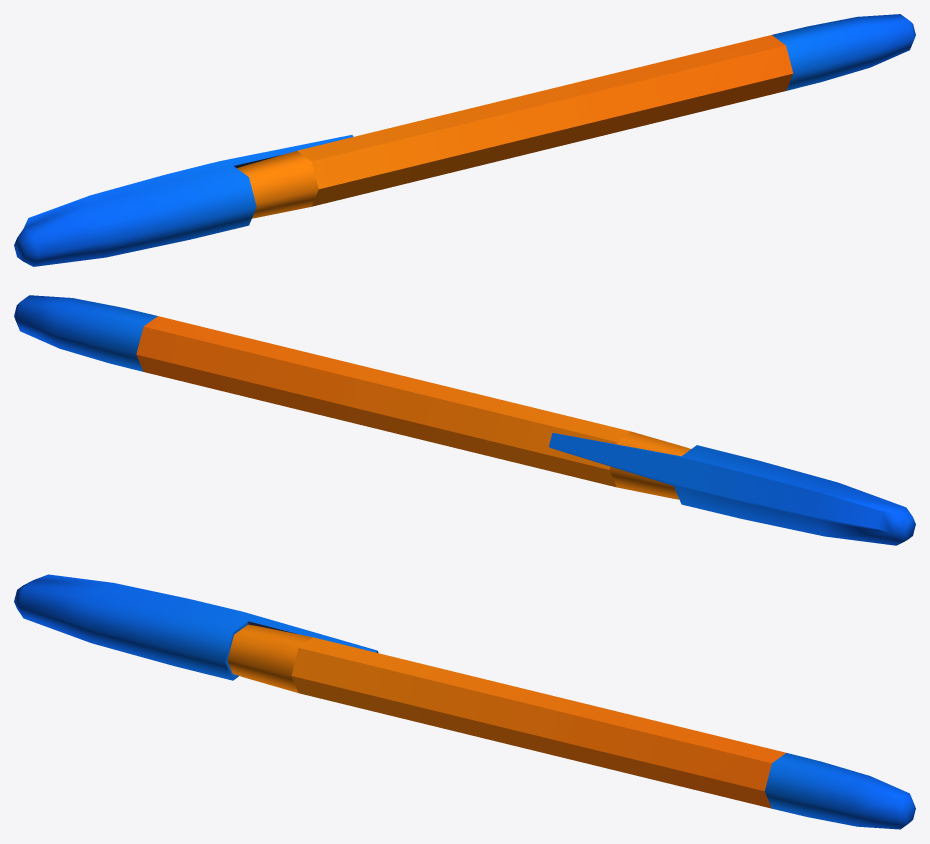
File: Pen1.fbx
The picture shows the model from 3 angles, top to bottom: view 1: azimuth 30°, elevation 25°; view 2: azimuth 150°, elevation 25°; view 3: azimuth 330°, elevation 25°; orthographic projection.
Visible parts, largest first — view 1: Pen1_1, Pen1_2; view 2: Pen1_1, Pen1_2; view 3: Pen1_1, Pen1_2.
Boxes of the visible parts, <box> form: Pen1_1: <box>237,14,915,218</box>; Pen1_2: <box>14,135,353,266</box>; Pen1_1: <box>14,295,690,499</box>; Pen1_2: <box>549,433,915,545</box>; Pen1_1: <box>227,624,915,829</box>; Pen1_2: <box>14,574,378,680</box>.
Size of the model in its own units: 1127 by 62.74 by 76.48.
